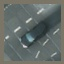car: (18, 21, 48, 50)
